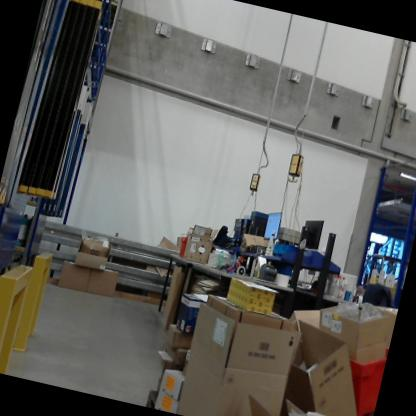small_load_carrier: (314, 328, 389, 416)
